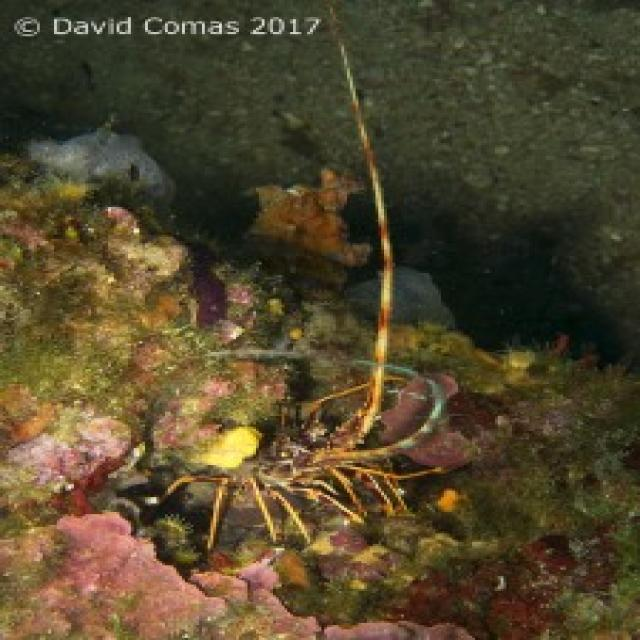lobsters: (121, 378, 547, 579)
